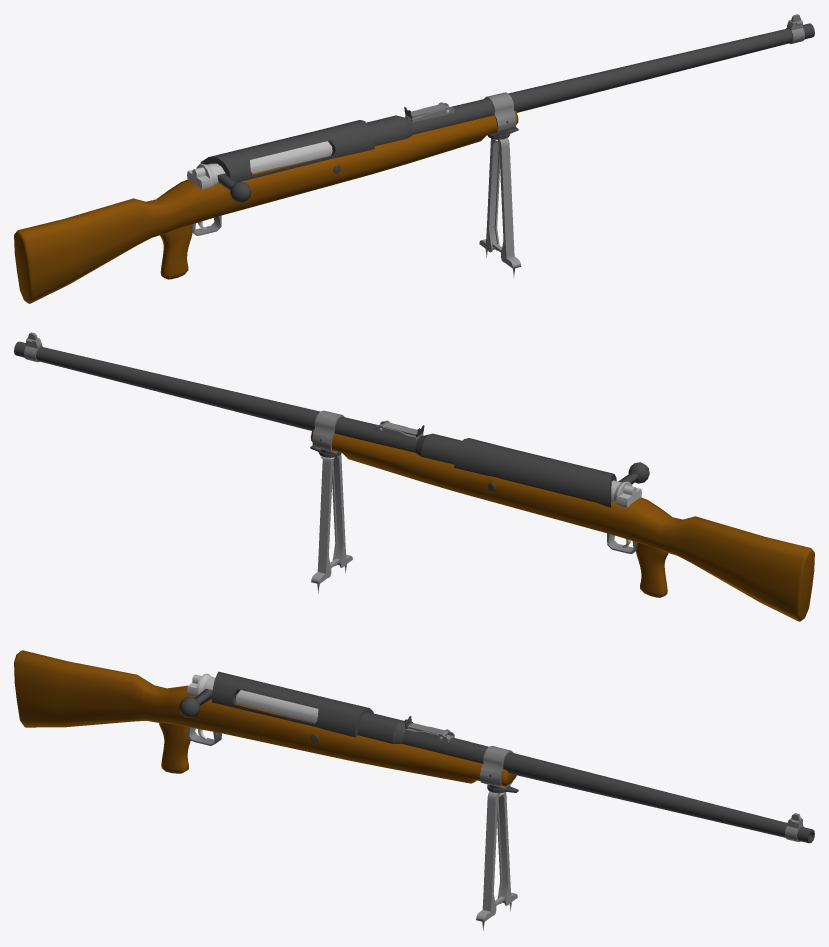
Rendered from Mauser_1918T_Gewehr_Mesh.fbx.
3 views of the same model, one above another, from view 1: azimuth 30°, elevation 25°; view 2: azimuth 150°, elevation 25°; view 3: azimuth 330°, elevation 25° (orthographic).
Parts seen in each view (by area): view 1: Mauser_1918T_Gewehr; view 2: Mauser_1918T_Gewehr; view 3: Mauser_1918T_Gewehr.
Boxes of the visible parts, x1=… form: Mauser_1918T_Gewehr: x1=14, y1=14, x2=814, y2=303; Mauser_1918T_Gewehr: x1=14, y1=332, x2=814, y2=621; Mauser_1918T_Gewehr: x1=14, y1=650, x2=814, y2=930.
Bounding box in the file's own units: 0.8238 × 0.1796 × 0.0829.
